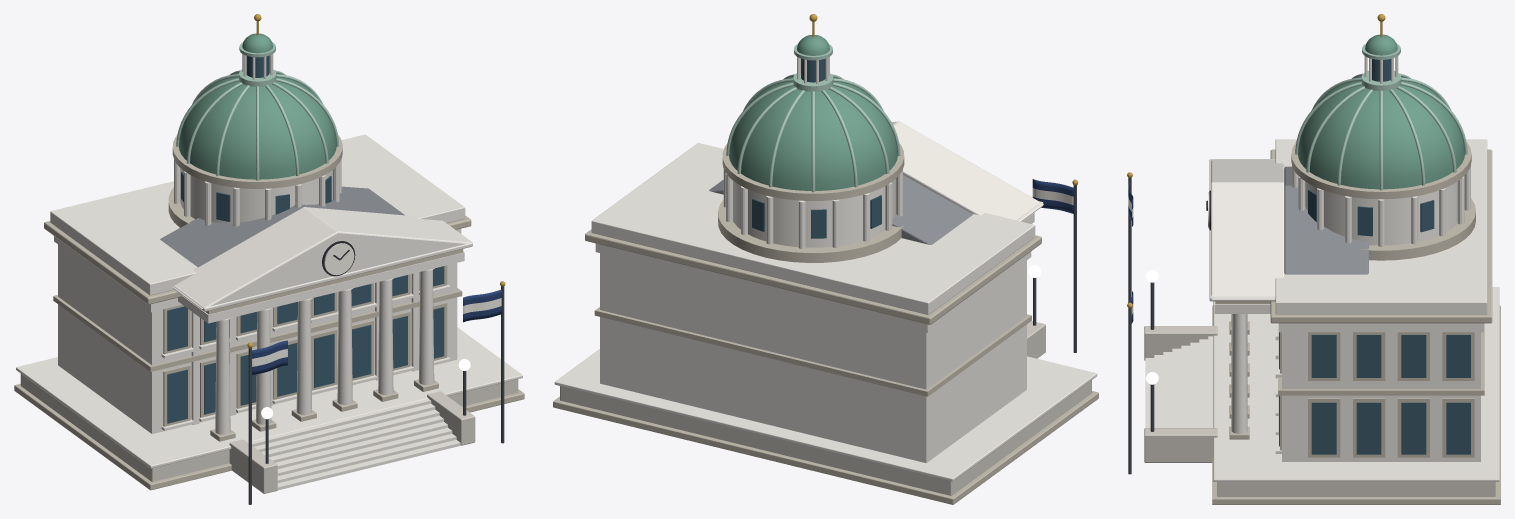
Rendered from civic.glb.
3 views of the same model, side by side, from view 1: azimuth 30°, elevation 25°; view 2: azimuth 150°, elevation 25°; view 3: azimuth 270°, elevation 25° (orthographic). The views are drawn at different scales.
Visible parts, largest first — view 1: civic-body; view 2: civic-body; view 3: civic-body.
Part boxes in pixels (x1,y1,x2,y2): civic-body: (14, 14, 524, 504); civic-body: (553, 14, 1098, 504); civic-body: (1127, 14, 1500, 504).
Size of the model in its own units: 18.4 by 17.47 by 15.02.
